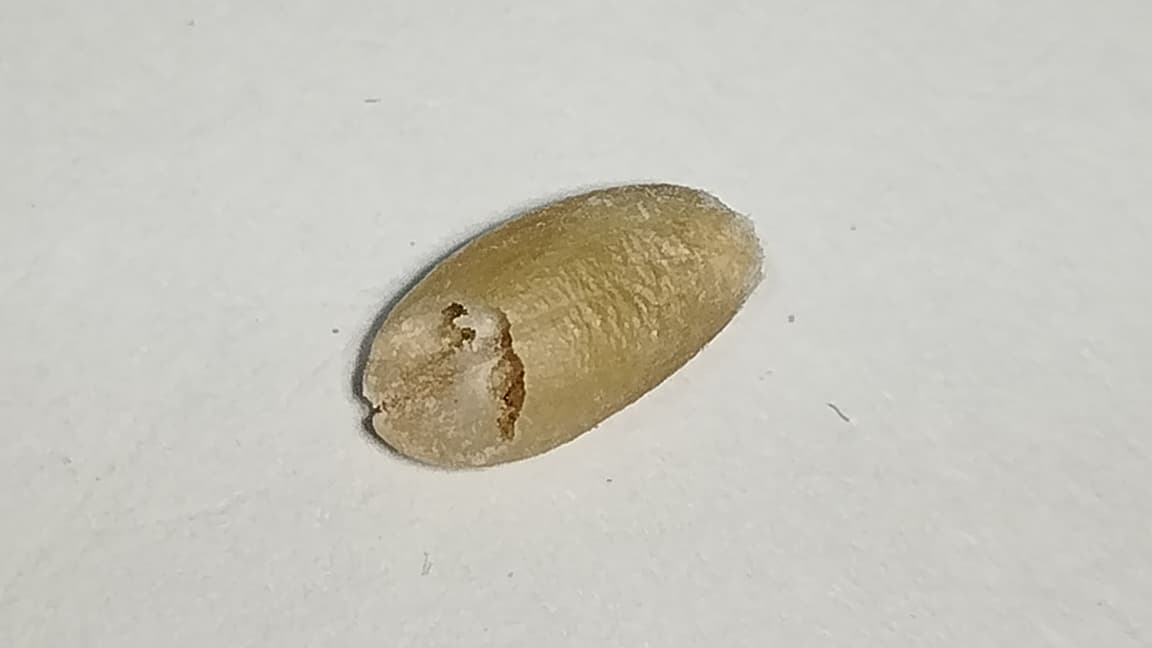insectdamage: (352, 291, 533, 464)
